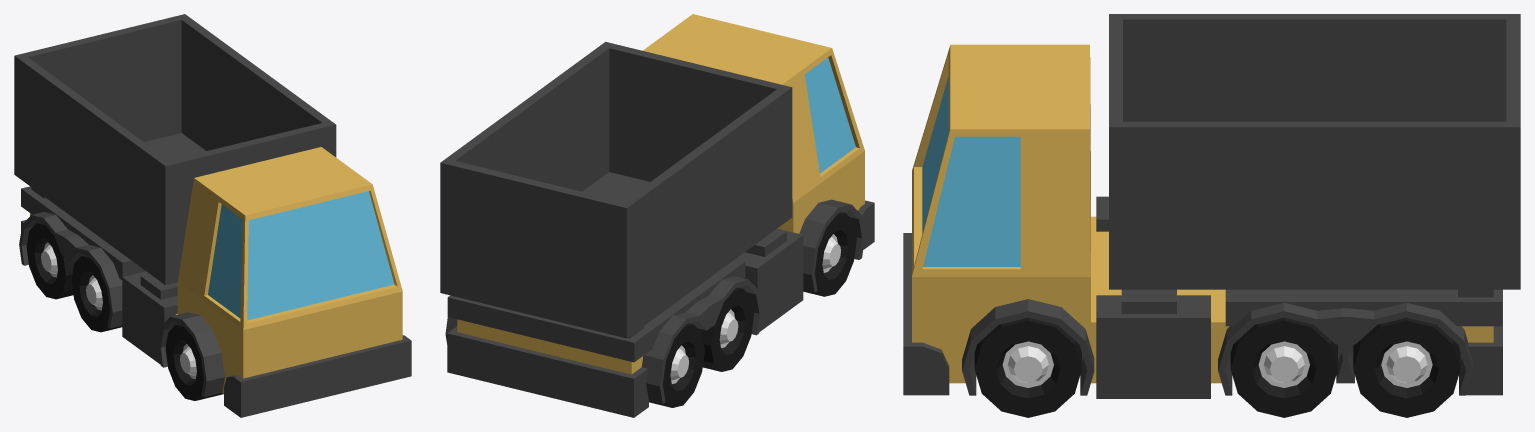
File: cacamba.glb
3 renders of one model, left to right at view 1: azimuth 30°, elevation 25°; view 2: azimuth 150°, elevation 25°; view 3: azimuth 270°, elevation 25°, orthographic. The views are drawn at different scales.
Parts seen in each view (by area): view 1: cacamba-vehicle, cacamba2-convcolonly-rigid, tampa_cacamba-colionly-rigid, wheel_back_right-wheel, wheel_front_right-wheel, wheel_mid_right-wheel; view 2: cacamba2-convcolonly-rigid, cacamba-vehicle, tampa_cacamba-colionly-rigid, wheel_mid_right-wheel, wheel_back_right-wheel, wheel_front_right-wheel; view 3: cacamba2-convcolonly-rigid, cacamba-vehicle, wheel_back_left-wheel, wheel_mid_left-wheel, wheel_front_left-wheel, tampa_cacamba-colionly-rigid.
Part boxes in pixels (<box>): cacamba-vehicle: <box>19,147,411,417</box>; cacamba2-convcolonly-rigid: <box>14,14,336,285</box>; tampa_cacamba-colionly-rigid: <box>23,16,181,141</box>; wheel_back_right-wheel: <box>26,222,77,299</box>; wheel_front_right-wheel: <box>165,324,223,400</box>; wheel_mid_right-wheel: <box>71,255,122,332</box>; cacamba2-convcolonly-rigid: <box>440,41,792,338</box>; cacamba-vehicle: <box>445,14,874,417</box>; tampa_cacamba-colionly-rigid: <box>449,161,622,329</box>; wheel_mid_right-wheel: <box>698,287,753,371</box>; wheel_back_right-wheel: <box>649,323,704,407</box>; wheel_front_right-wheel: <box>803,212,856,296</box>; cacamba2-convcolonly-rigid: <box>1109,14,1520,297</box>; cacamba-vehicle: <box>903,44,1502,398</box>; wheel_back_left-wheel: <box>1353,317,1460,417</box>; wheel_mid_left-wheel: <box>1230,317,1337,417</box>; wheel_front_left-wheel: <box>974,317,1081,417</box>; tampa_cacamba-colionly-rigid: <box>1506,19,1520,121</box>.
Size of what is drawn, in the model's own units: 3.45 by 3.5 by 6.9.
